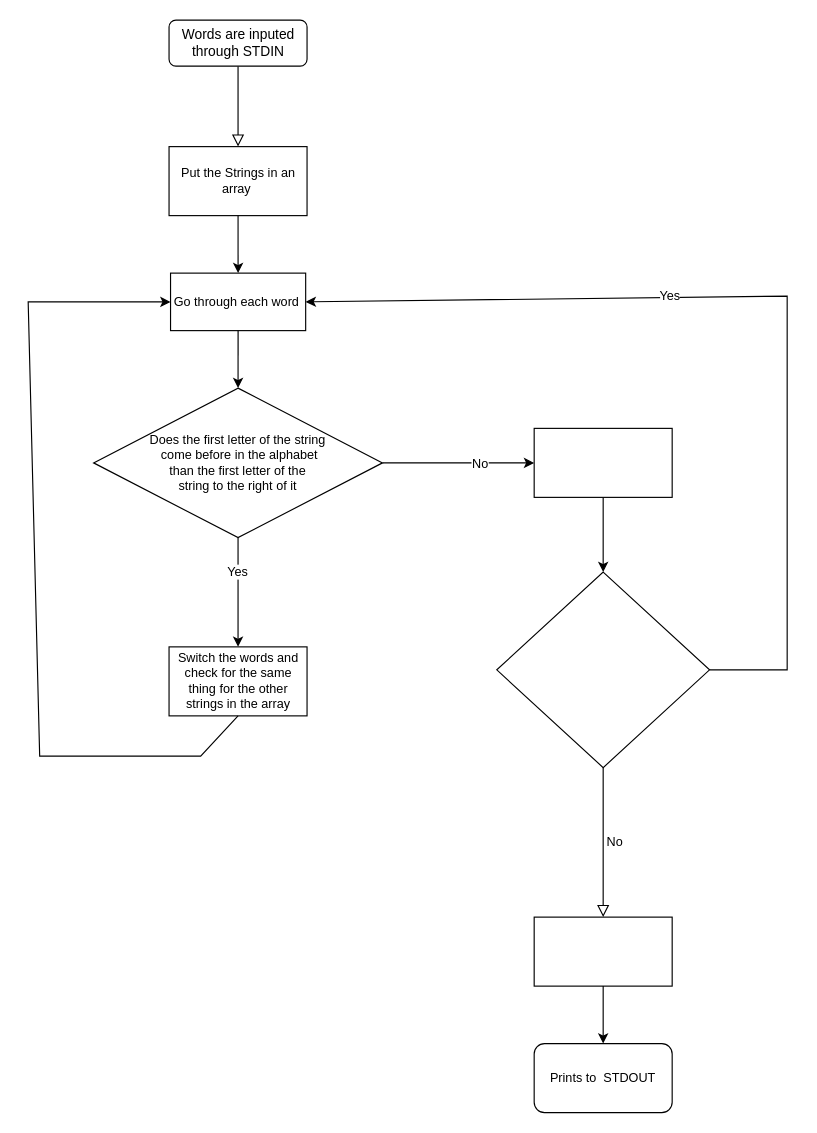
The diagram is 817 pixels wide and 1133 high, and some of its shapes have lost their labels. The centre of each missing label's shape, as x and y in pixels:
"Check for the same thing for the other strings" goes at point (602, 462).
"The set is alphabetical" goes at point (602, 951).
"Were there any changes to the set" goes at point (603, 669).
